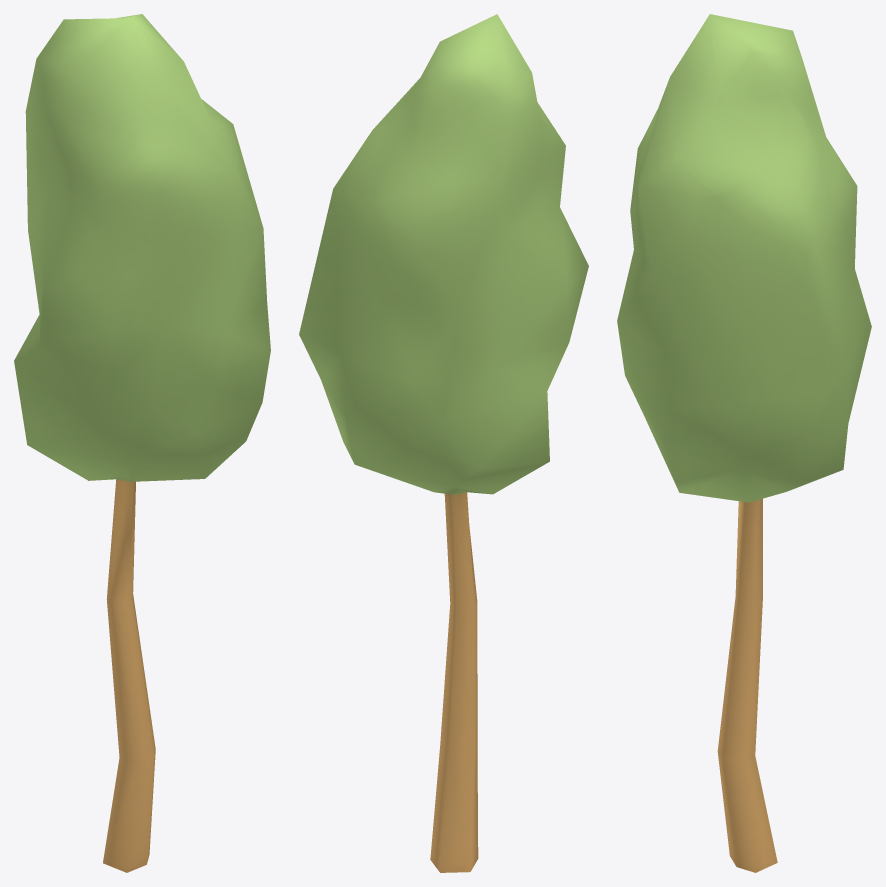
The picture shows the model from 3 angles, left to right: view 1: azimuth 30°, elevation 25°; view 2: azimuth 150°, elevation 25°; view 3: azimuth 270°, elevation 25°; orthographic projection. The views are drawn at different scales.
Parts seen in each view (by area): view 1: Poros1.001; view 2: Poros1.001; view 3: Poros1.001.
Boxes of the visible parts, left/top/right/bottom form: Poros1.001: left=14, top=14, right=270, bottom=872; Poros1.001: left=299, top=14, right=588, bottom=872; Poros1.001: left=617, top=14, right=871, bottom=872.
Size of the model in its own units: 2.84 by 10.04 by 2.77.
1 material, 1 textured.
